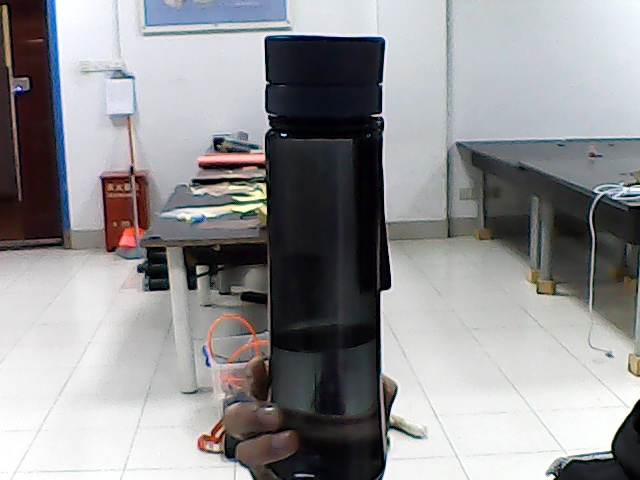cup: (277, 39, 381, 416)
